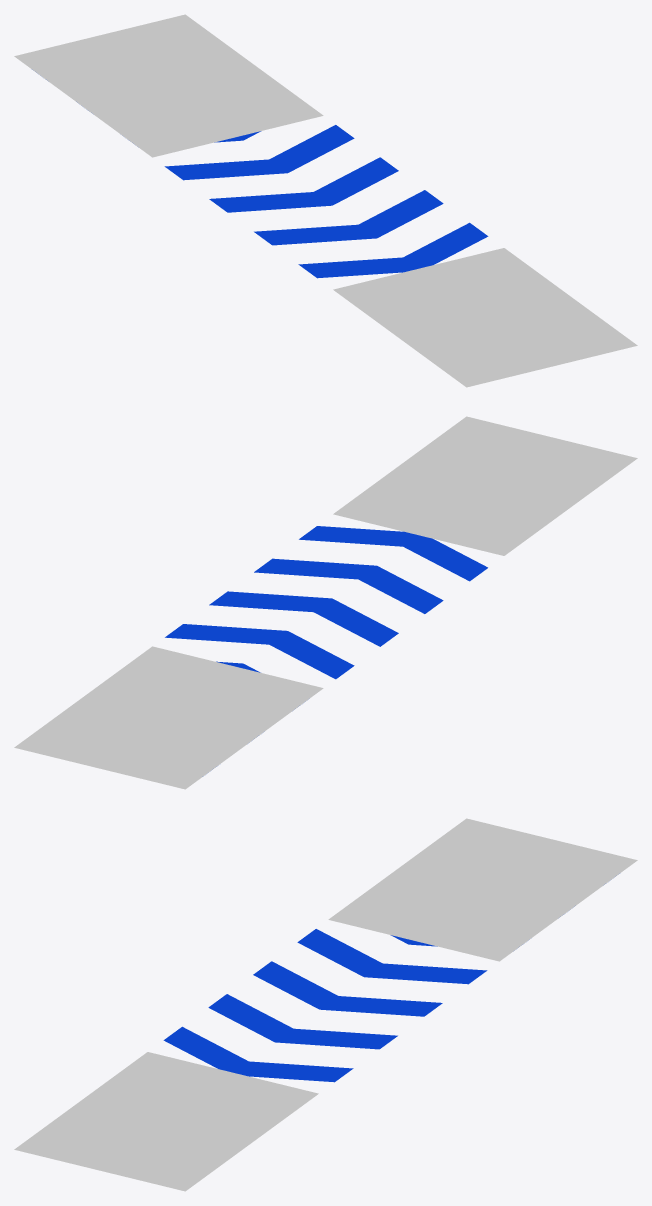
The model's file is speedPlatform.fbx.
3 renders of one model, top to bottom at view 1: azimuth 30°, elevation 25°; view 2: azimuth 150°, elevation 25°; view 3: azimuth 330°, elevation 25°, orthographic.
Parts seen in each view (by area): view 1: Plane, arrows; view 2: Plane, arrows; view 3: Plane, arrows.
Boxes of the visible parts, x1,y1,x2,y2 form: Plane: (14, 14, 637, 387); arrows: (164, 125, 488, 278); Plane: (14, 416, 637, 789); arrows: (165, 526, 487, 679); Plane: (14, 818, 637, 1191); arrows: (163, 929, 487, 1082).
Bounding box in the file's own units: 200 × 0.1002 × 914.
